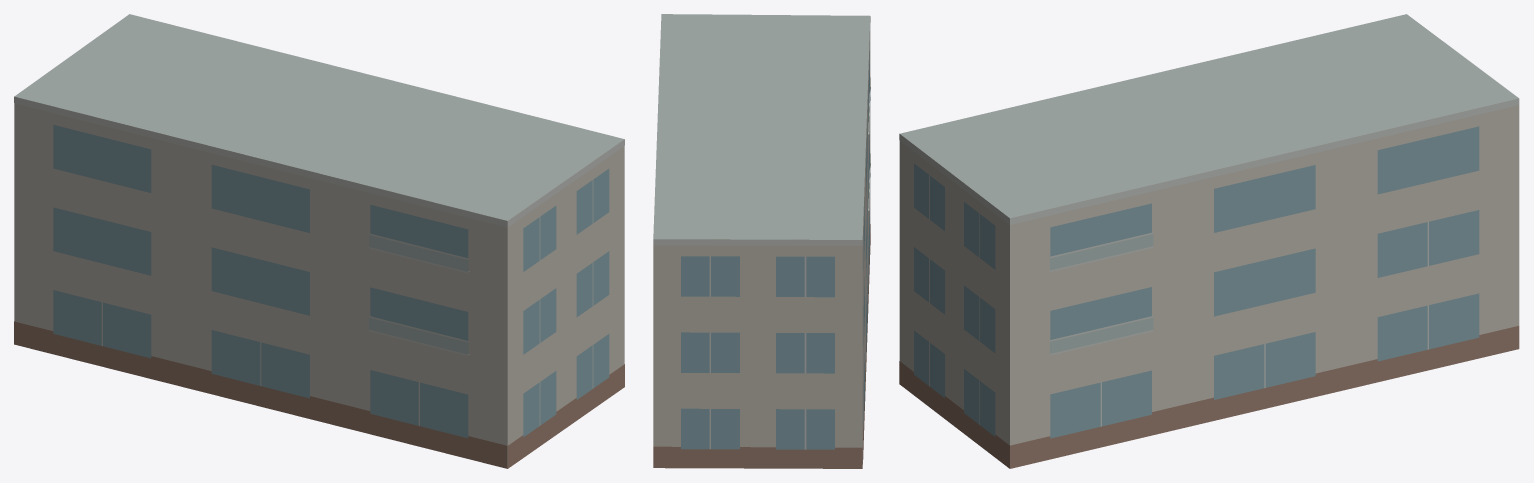
The model's file is survey-upis-32685109.glb.
3 views of the same model, side by side, from view 1: azimuth 30°, elevation 25°; view 2: azimuth 150°, elevation 25°; view 3: azimuth 270°, elevation 25° (orthographic). The views are drawn at different scales.
Parts seen in each view (by area): view 1: survey-upis-32685109.tmp; view 2: survey-upis-32685109.tmp; view 3: survey-upis-32685109.tmp.
Boxes of the visible parts, x1,y1,x2,y2 form: survey-upis-32685109.tmp: (14, 14, 624, 468); survey-upis-32685109.tmp: (653, 14, 870, 468); survey-upis-32685109.tmp: (899, 14, 1519, 468).
Size of the model in its own units: 16.01 by 9.15 by 20.53.
